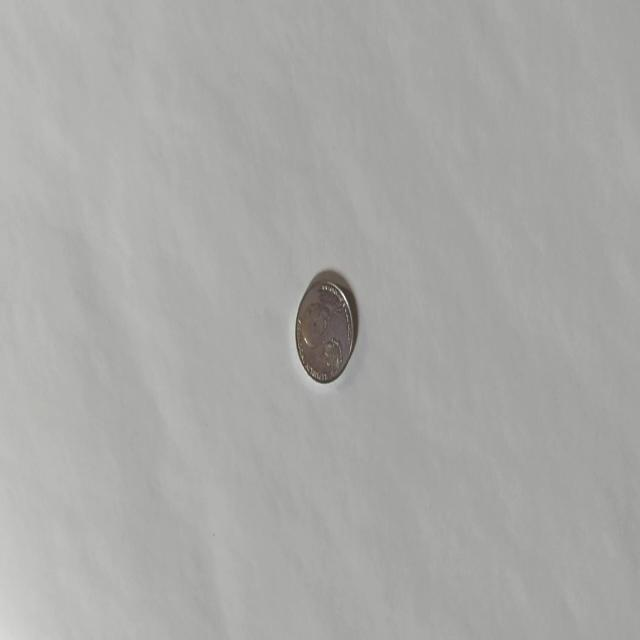lima ratus rupiah: (294, 275, 354, 385)
